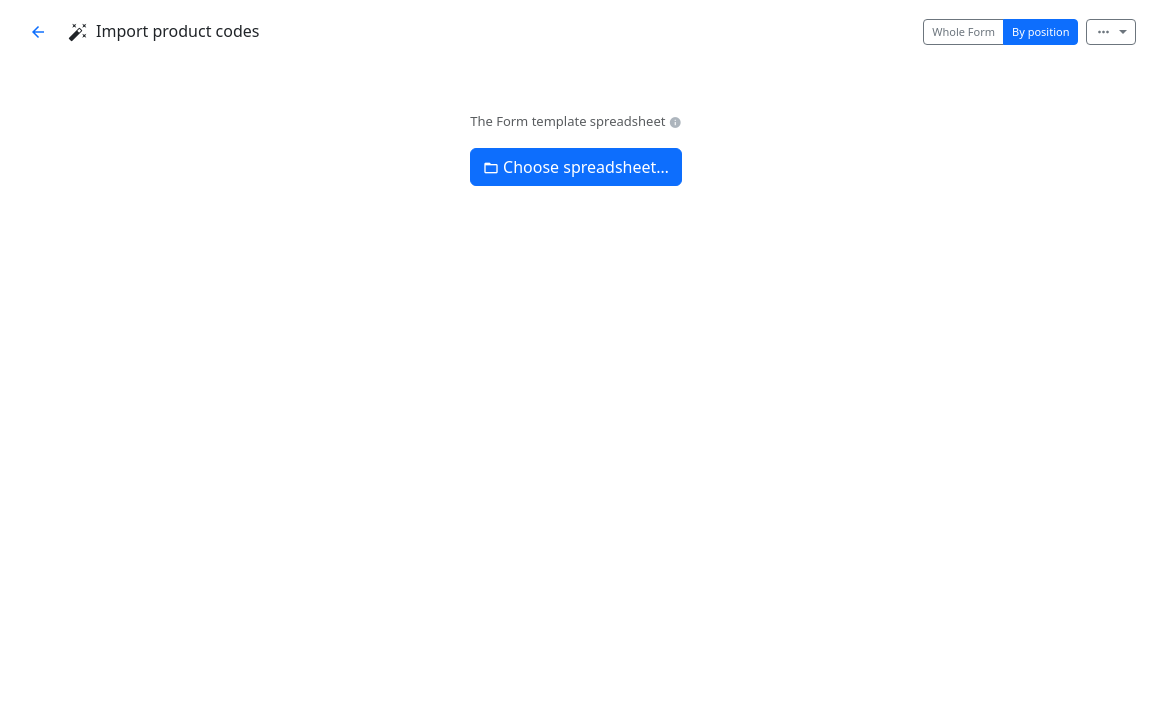
Test: import By position › the toggle switches back to the whole Form, and is remembered
Click the text "Choose spreadsheet…" at (586, 166), box [503,156,669,178]
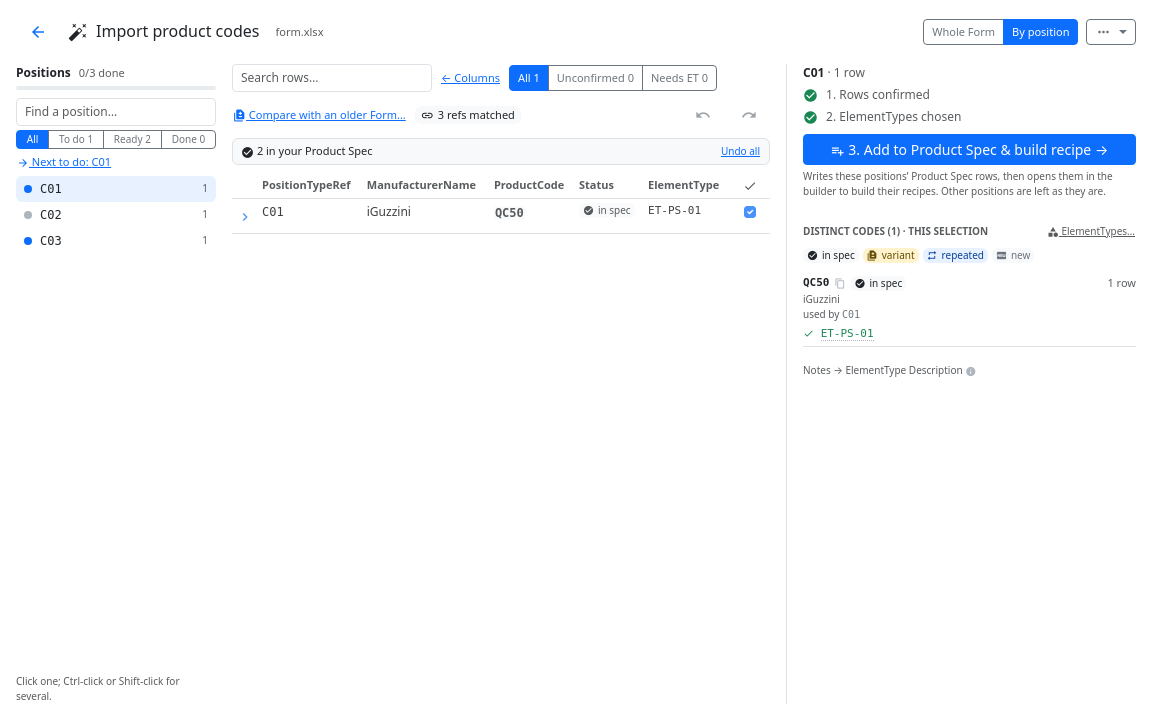
Check: the element with test id "form-position-list" is shown, box [16,64,216,704]
Click the button "Whole Form" at (964, 32), box [923,19,1004,45]
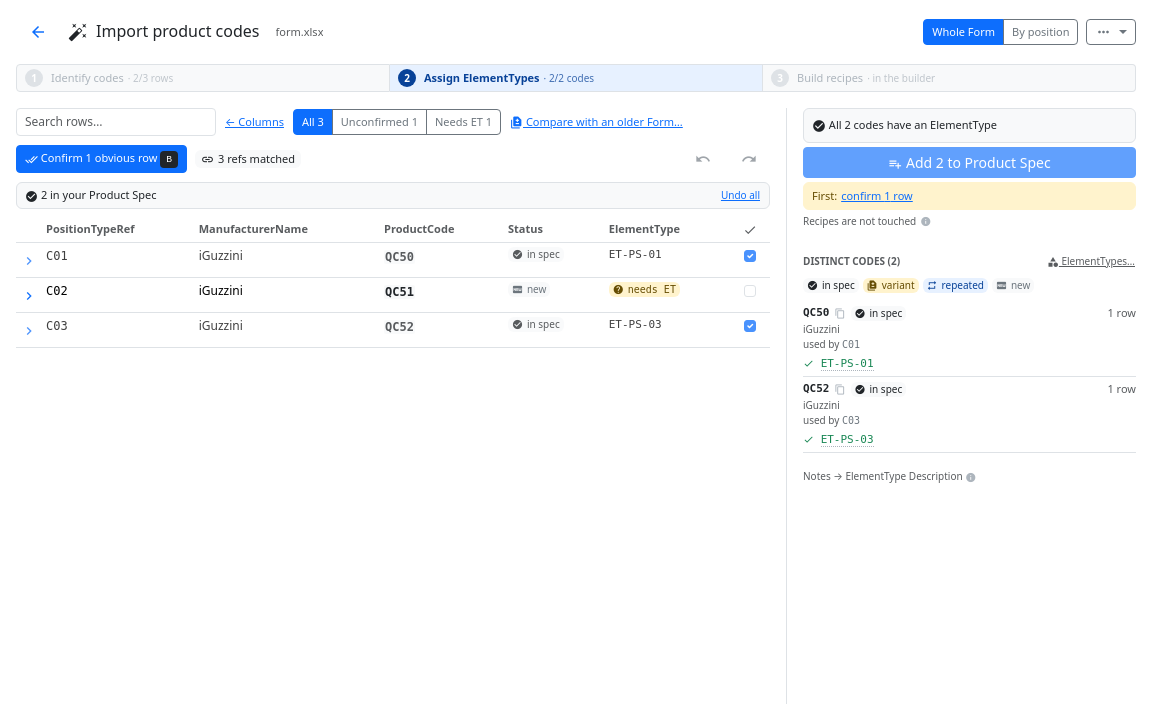
Check: the element with test id "form-position-list" is gone
Check: the element with test id "stage-block" is shown, box [803,108,1136,237]
